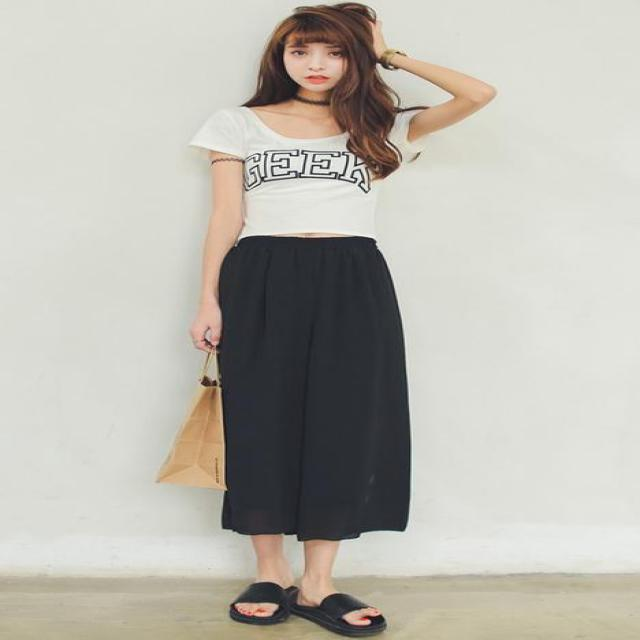short sleeve top: (189, 105, 418, 244)
trousers: (216, 239, 410, 542)
